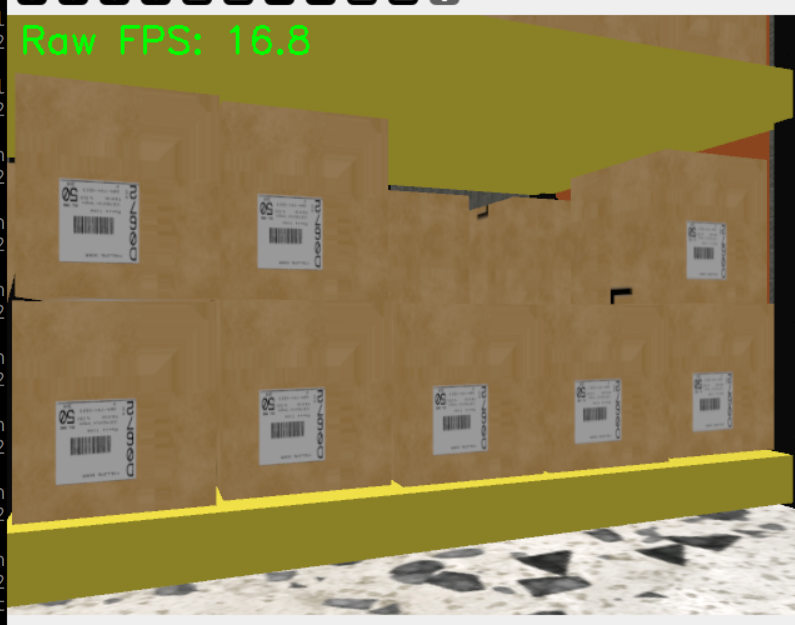barcode: (58, 177, 141, 263), (55, 399, 138, 484), (257, 387, 328, 464), (256, 193, 325, 272), (431, 384, 489, 454), (572, 377, 624, 445), (691, 371, 735, 432), (685, 222, 728, 281)
